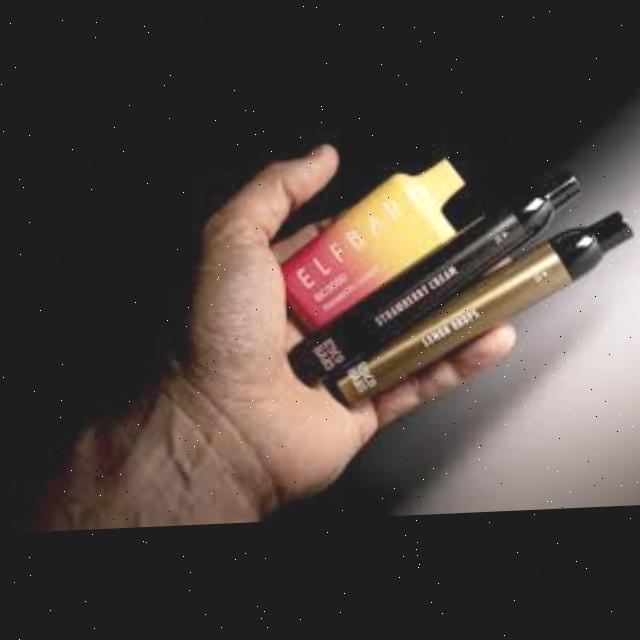vape: (286, 174, 579, 393), (326, 214, 633, 414), (279, 161, 463, 339)
